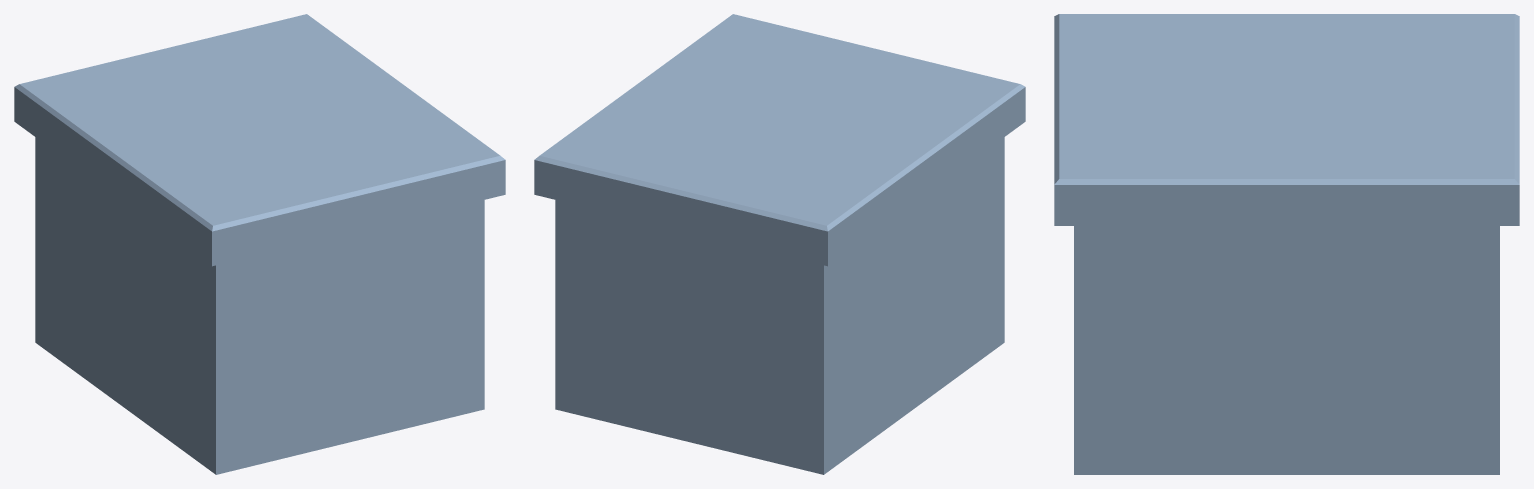
The model's file is prop_storage_box_1.fbx.
3 renders of one model, left to right at view 1: azimuth 30°, elevation 25°; view 2: azimuth 150°, elevation 25°; view 3: azimuth 270°, elevation 25°, orthographic. The views are drawn at different scales.
Visible parts, largest first — view 1: caja almacenamiento 1; view 2: caja almacenamiento 1; view 3: caja almacenamiento 1.
Part boxes in pixels (x1=…): caja almacenamiento 1: x1=14, y1=14, x2=505, y2=474; caja almacenamiento 1: x1=534, y1=14, x2=1025, y2=474; caja almacenamiento 1: x1=1054, y1=14, x2=1519, y2=474.
Bounding box in the file's own units: 30 × 25 × 35.
